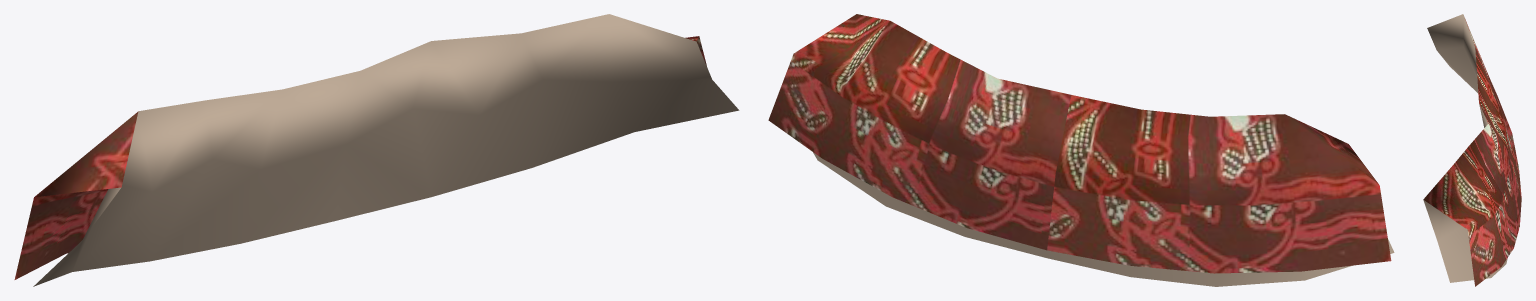
The model's file is Kerah.fbx.
The picture shows the model from 3 angles, left to right: view 1: azimuth 30°, elevation 25°; view 2: azimuth 150°, elevation 25°; view 3: azimuth 270°, elevation 25°; orthographic projection. The views are drawn at different scales.
Visible parts, largest first — view 1: Kerah.001; view 2: Kerah.001; view 3: Kerah.001.
Boxes of the visible parts, x1=… form: Kerah.001: x1=14, y1=14, x2=739, y2=286; Kerah.001: x1=768, y1=14, x2=1394, y2=286; Kerah.001: x1=1423, y1=14, x2=1521, y2=286.
Bounding box in the file's own units: 145 × 37.89 × 27.24.
2 materials, 1 textured.
